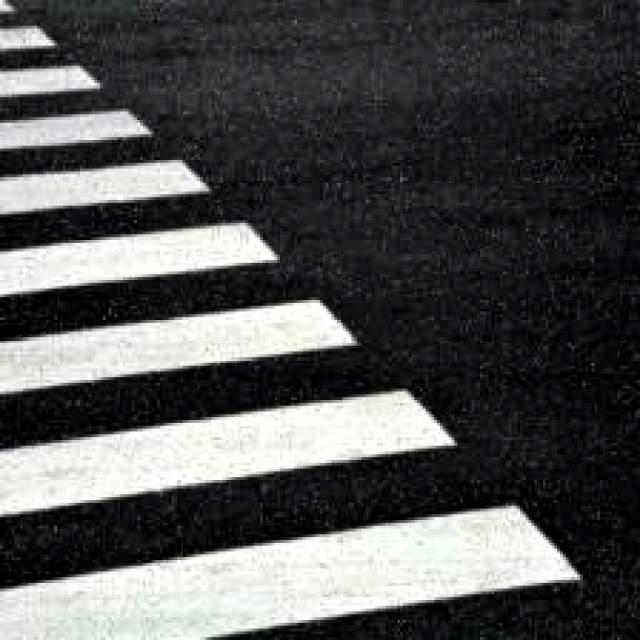crosswalk: (0, 6, 590, 639)
